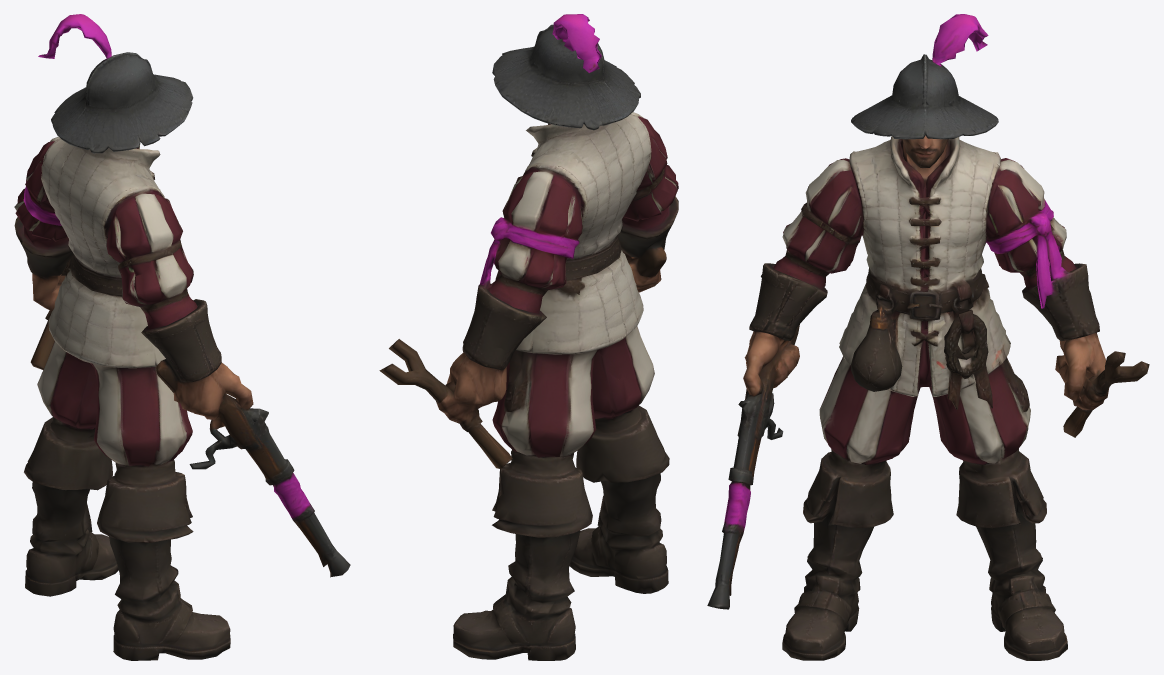
The model's file is model_tripo_h31.glb.
3 views of the same model, side by side, from view 1: azimuth 30°, elevation 25°; view 2: azimuth 150°, elevation 25°; view 3: azimuth 270°, elevation 25° (orthographic). The views are drawn at different scales.
Visible parts, largest first — view 1: tripo_node_cd39d074-0cd1-430d-9ae7-6132f43ea0df; view 2: tripo_node_cd39d074-0cd1-430d-9ae7-6132f43ea0df; view 3: tripo_node_cd39d074-0cd1-430d-9ae7-6132f43ea0df.
Part boxes in pixels (x1,y1,x2,y2): tripo_node_cd39d074-0cd1-430d-9ae7-6132f43ea0df: [14, 14, 350, 660]; tripo_node_cd39d074-0cd1-430d-9ae7-6132f43ea0df: [379, 14, 678, 660]; tripo_node_cd39d074-0cd1-430d-9ae7-6132f43ea0df: [707, 14, 1149, 660].
Bounding box in the file's own units: 0.3332 × 1 × 0.6593.
1 material, 1 textured.
